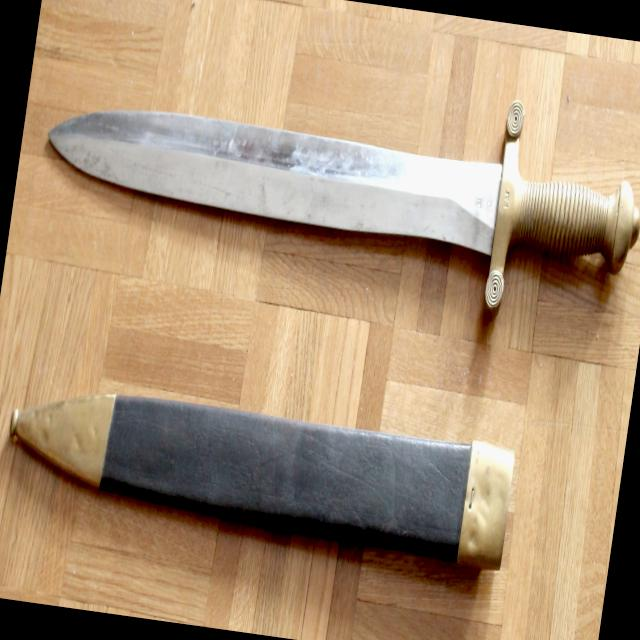short sword: (25, 15, 640, 342)
